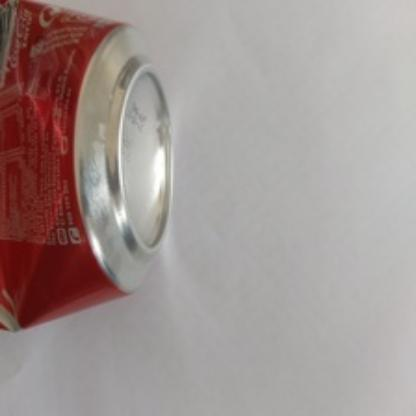Can: (0, 0, 172, 334)
